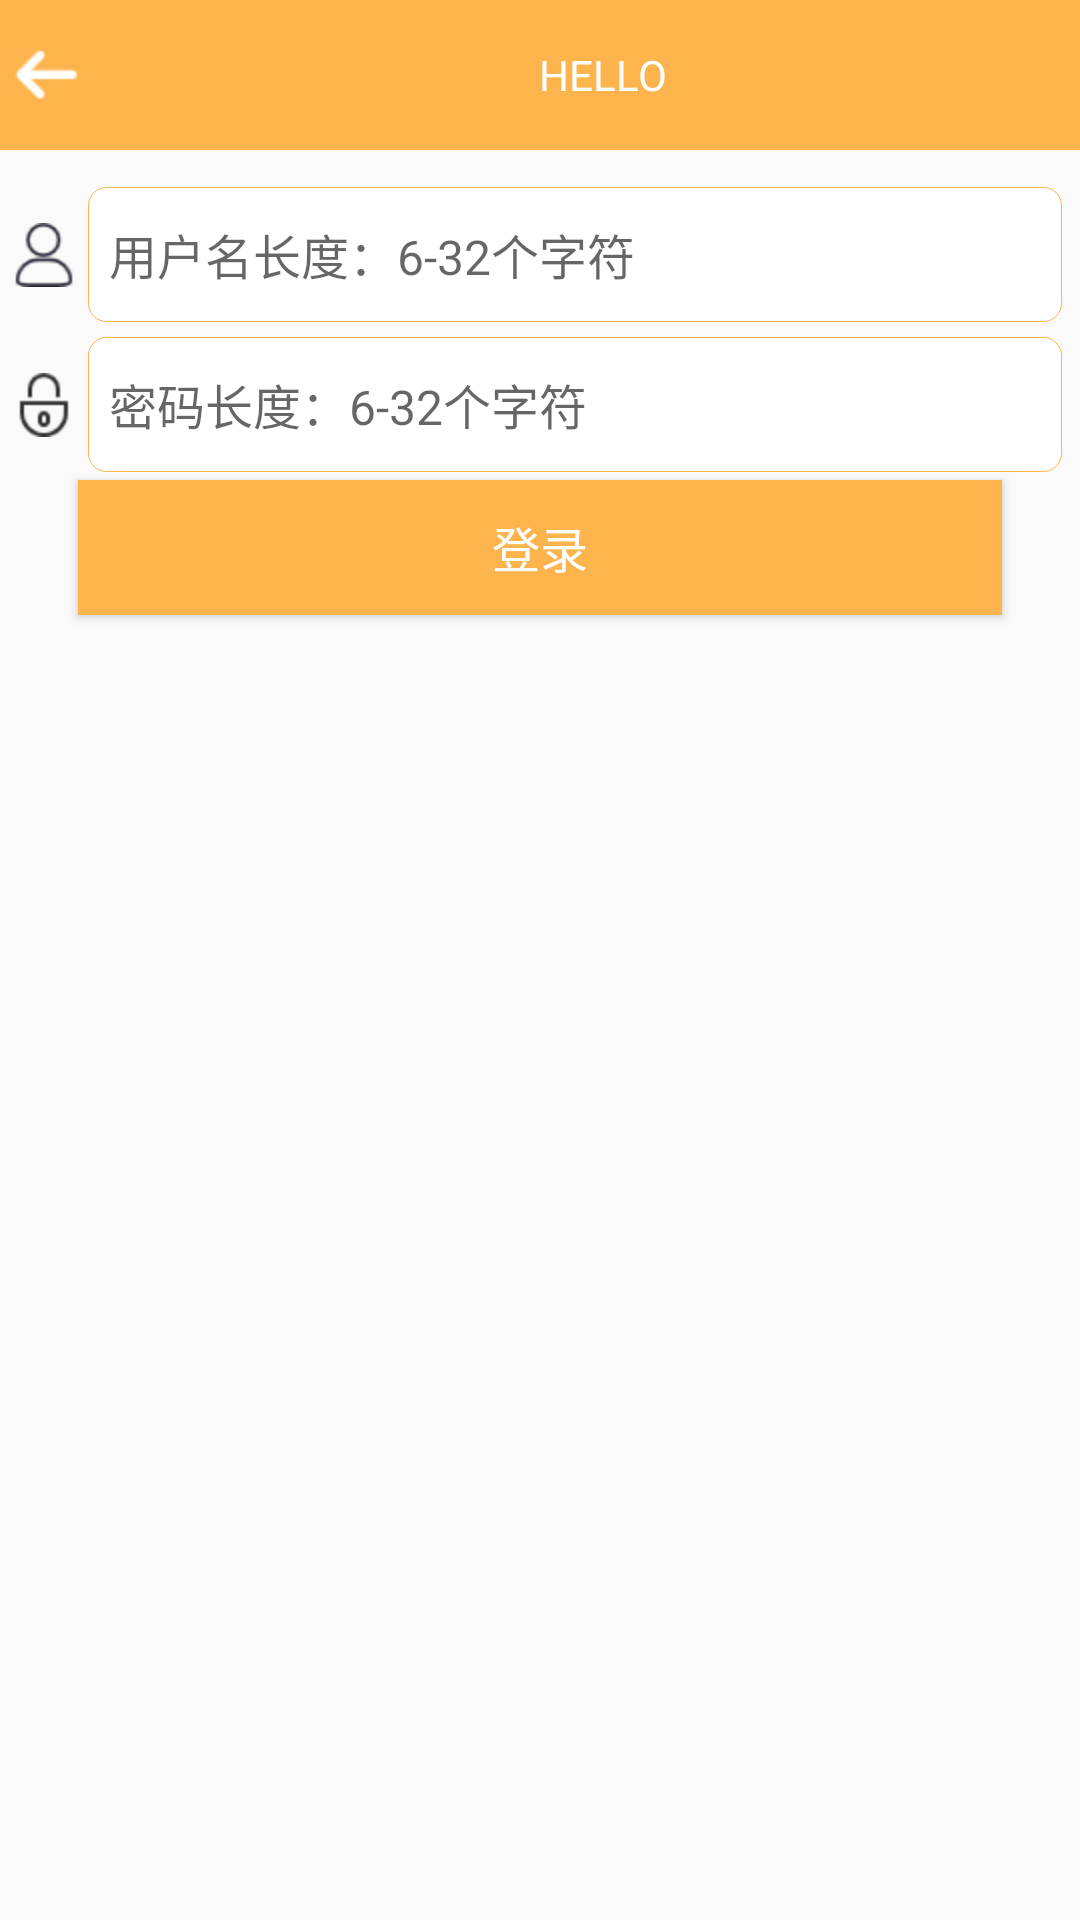

Screen size 1080w x 1920h. Icon name, then its box in pixels as [x1=x1, y1=y1, x2=x2, y2=y2]:
back: [x1=15, y1=50, x2=78, y2=100]
login name: [x1=15, y1=223, x2=73, y2=287]
login pwd: [x1=19, y1=373, x2=69, y2=437]
